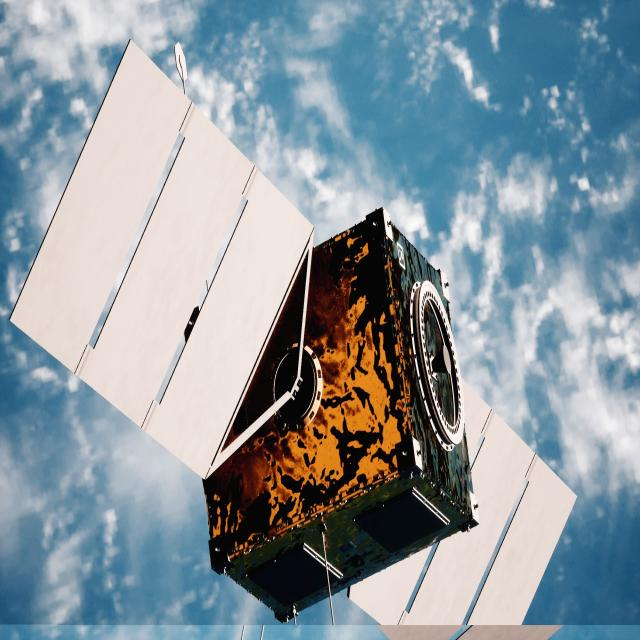medium_debris: (10, 44, 577, 640)
